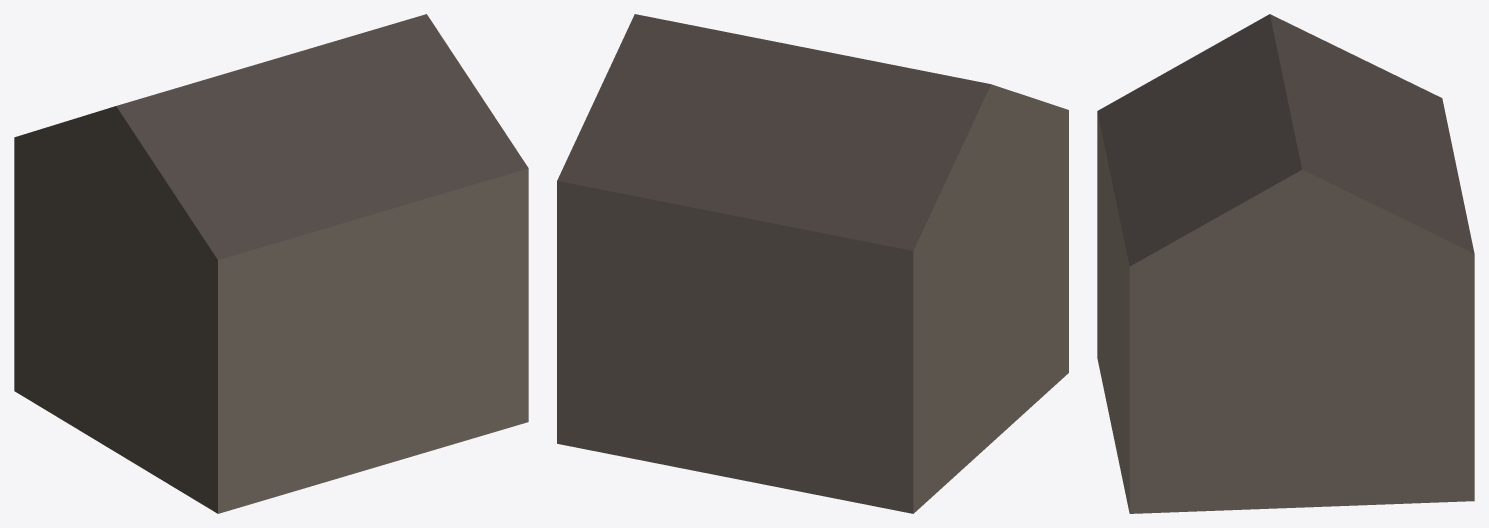
The picture shows the model from 3 angles, left to right: view 1: azimuth 30°, elevation 25°; view 2: azimuth 150°, elevation 25°; view 3: azimuth 270°, elevation 25°; orthographic projection. The views are drawn at different scales.
Parts seen in each view (by area): view 1: HP-w859424254; view 2: HP-w859424254; view 3: HP-w859424254.
Boxes of the visible parts, x1,y1,x2,y2 form: HP-w859424254: (14,14,528,513); HP-w859424254: (557,14,1068,513); HP-w859424254: (1097,14,1474,513).
Bounding box in the file's own units: 8.77 × 8.2 × 8.29.
